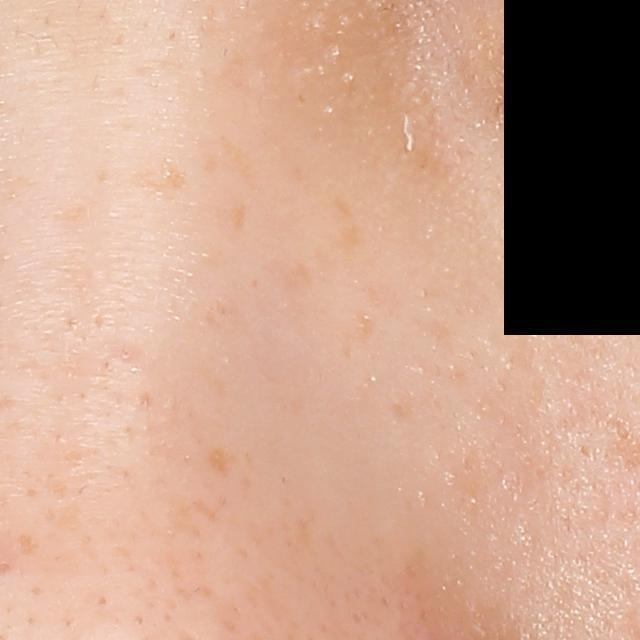melasma: (121, 153, 192, 200), (221, 128, 259, 186), (342, 302, 381, 358), (280, 258, 322, 302), (334, 196, 362, 254), (207, 440, 235, 484), (230, 196, 247, 231)
